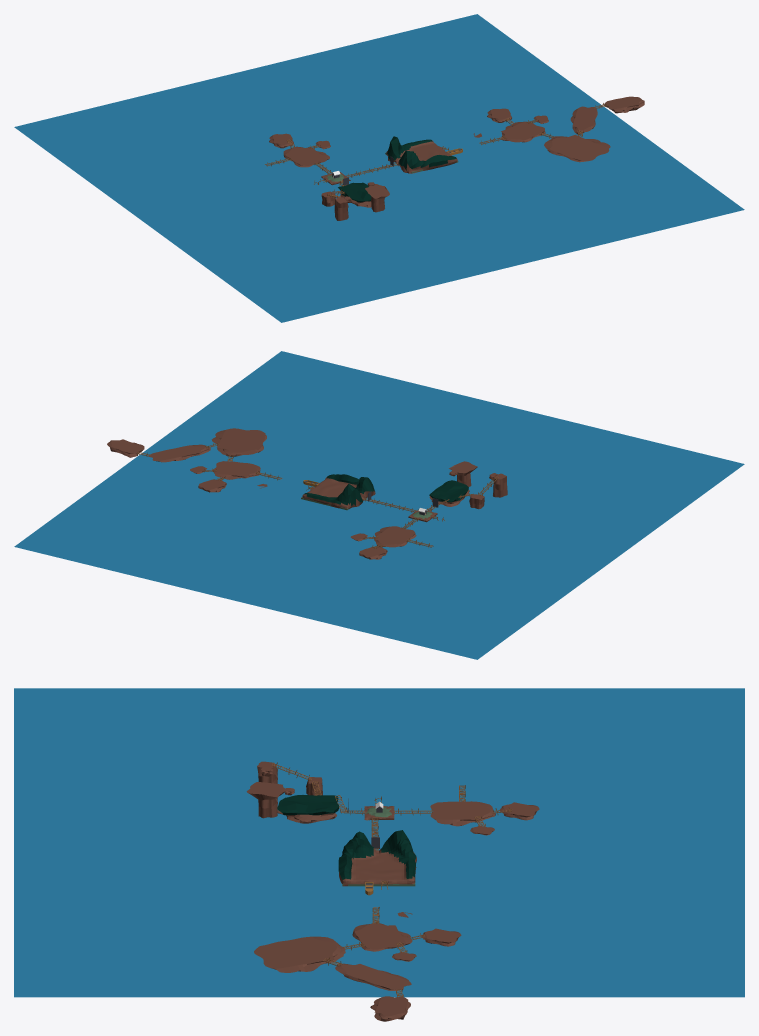
Rendered from Map3.fbx.
The picture shows the model from 3 angles, top to bottom: view 1: azimuth 30°, elevation 25°; view 2: azimuth 150°, elevation 25°; view 3: azimuth 270°, elevation 25°; orthographic projection. The views are drawn at different scales.
Visible parts, largest first — view 1: Plane, Plane.003, Plane.010, Plane.007, Plane.015, Plane.011, Plane.002; view 2: Plane, Plane.003, Plane.010, Plane.007, Plane.002, Plane.015, Plane.011; view 3: Plane, Plane.003, Plane.010, Plane.002, Plane.015, Plane.007, Plane.011, Plane.020, Plane.014.
Part boxes in pixels (box(x1,y1,x2,y2)): Plane: box(14, 14, 744, 322); Plane.003: box(386, 136, 457, 173); Plane.010: box(544, 134, 610, 162); Plane.007: box(501, 121, 545, 142); Plane.015: box(283, 146, 329, 167); Plane.011: box(570, 106, 597, 134); Plane.002: box(338, 182, 371, 207); Plane: box(14, 351, 744, 659); Plane.003: box(302, 474, 375, 508); Plane.010: box(212, 428, 266, 456); Plane.007: box(212, 461, 260, 479); Plane.002: box(429, 480, 469, 506); Plane.015: box(373, 526, 416, 547); Plane.011: box(148, 444, 210, 462); Plane: box(14, 688, 744, 997); Plane.003: box(338, 830, 416, 886); Plane.010: box(254, 936, 345, 972); Plane.002: box(277, 795, 339, 823); Plane.015: box(430, 801, 495, 826); Plane.007: box(352, 923, 412, 951); Plane.011: box(335, 963, 411, 990); Plane.020: box(246, 782, 285, 818); Plane.014: box(370, 996, 410, 1021).
Size of what is drawn, in the model's own units: 753 by 67.99 by 700.
